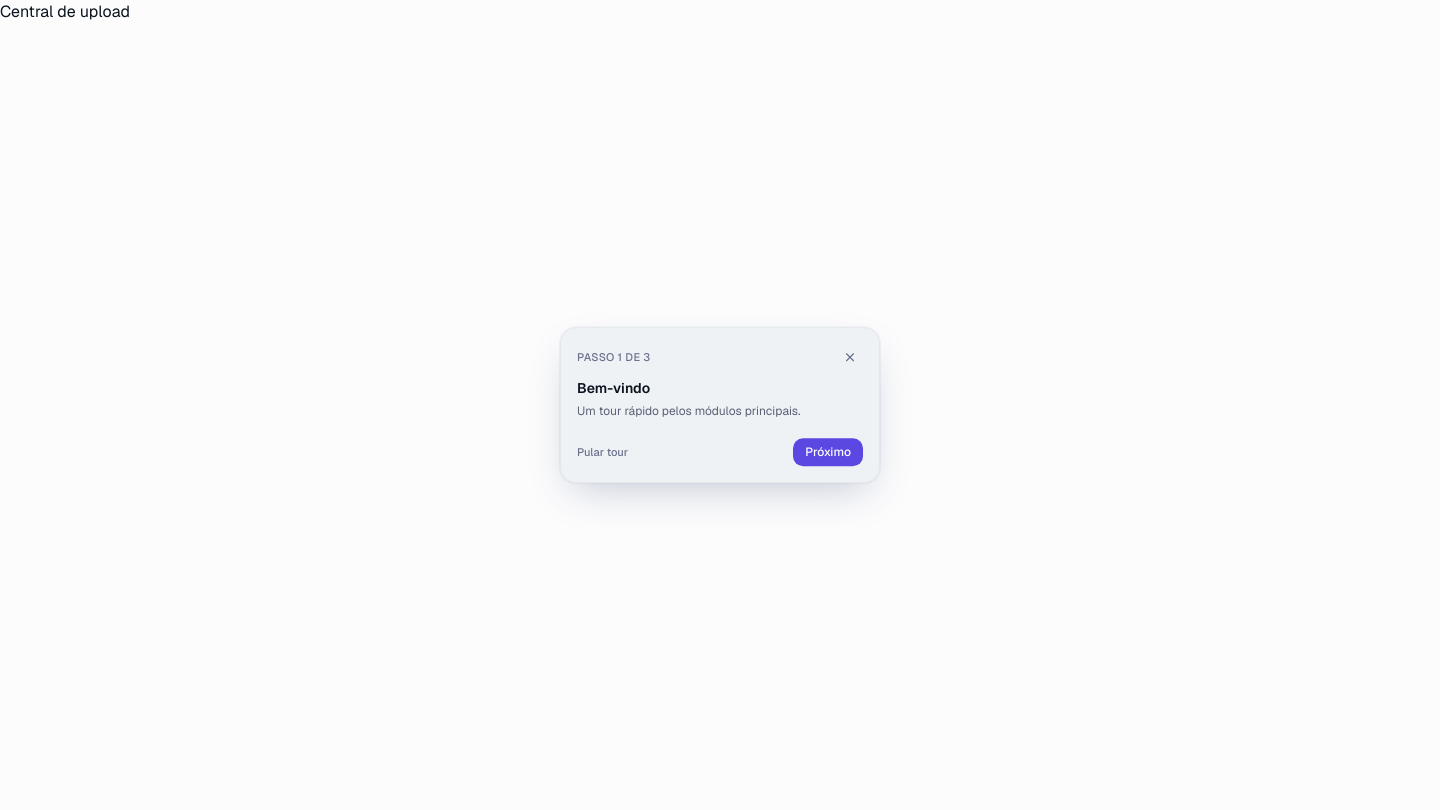
Test: OnboardingTour › 'Próximo' avança o passo, 'Voltar' retorna
Click the button "Próximo" at coordinates (828, 452), box [793, 438, 863, 466]
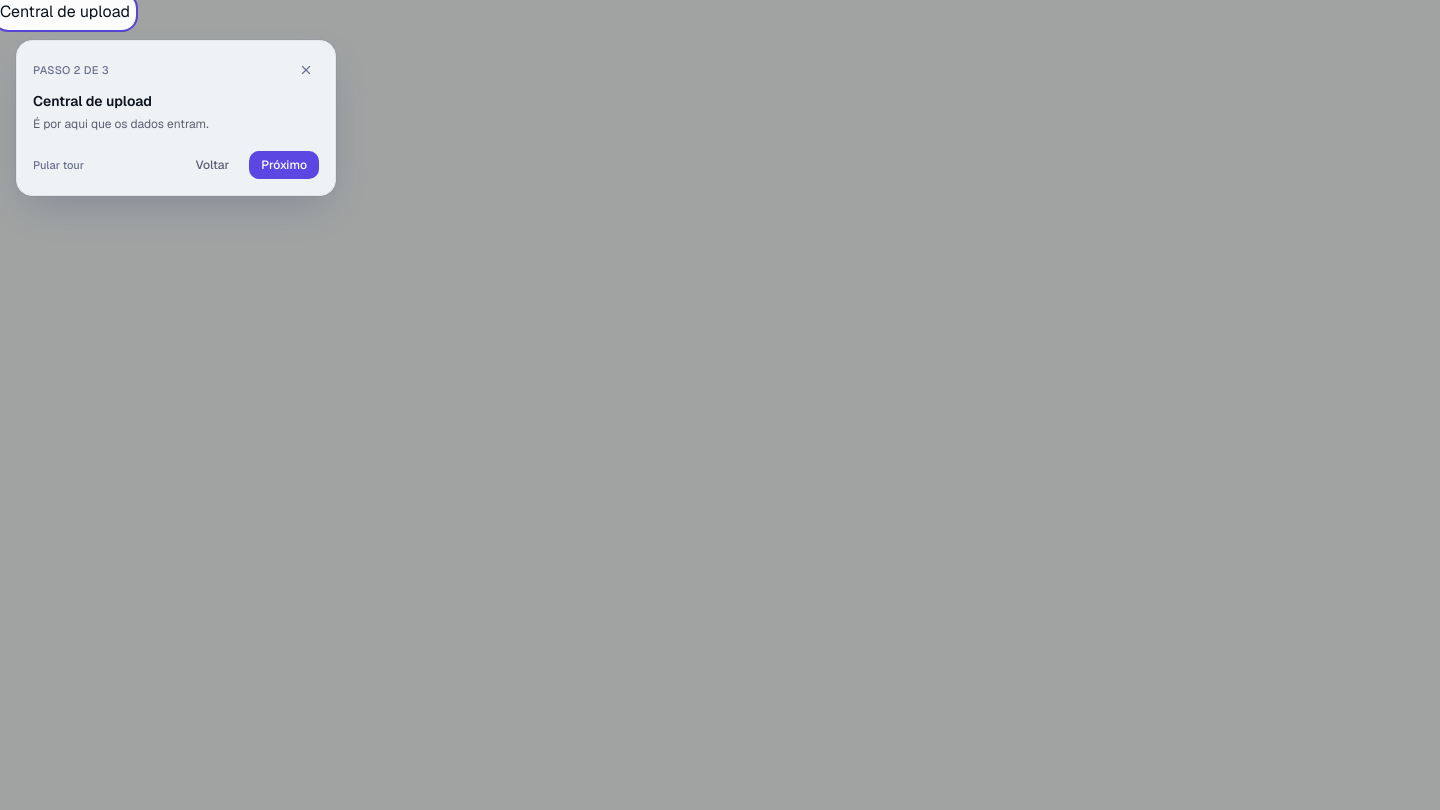
Expected: the heading "Central de upload" is shown, [33, 92, 152, 110]
Click the button "Voltar" at coordinates (212, 164), box [183, 150, 241, 178]
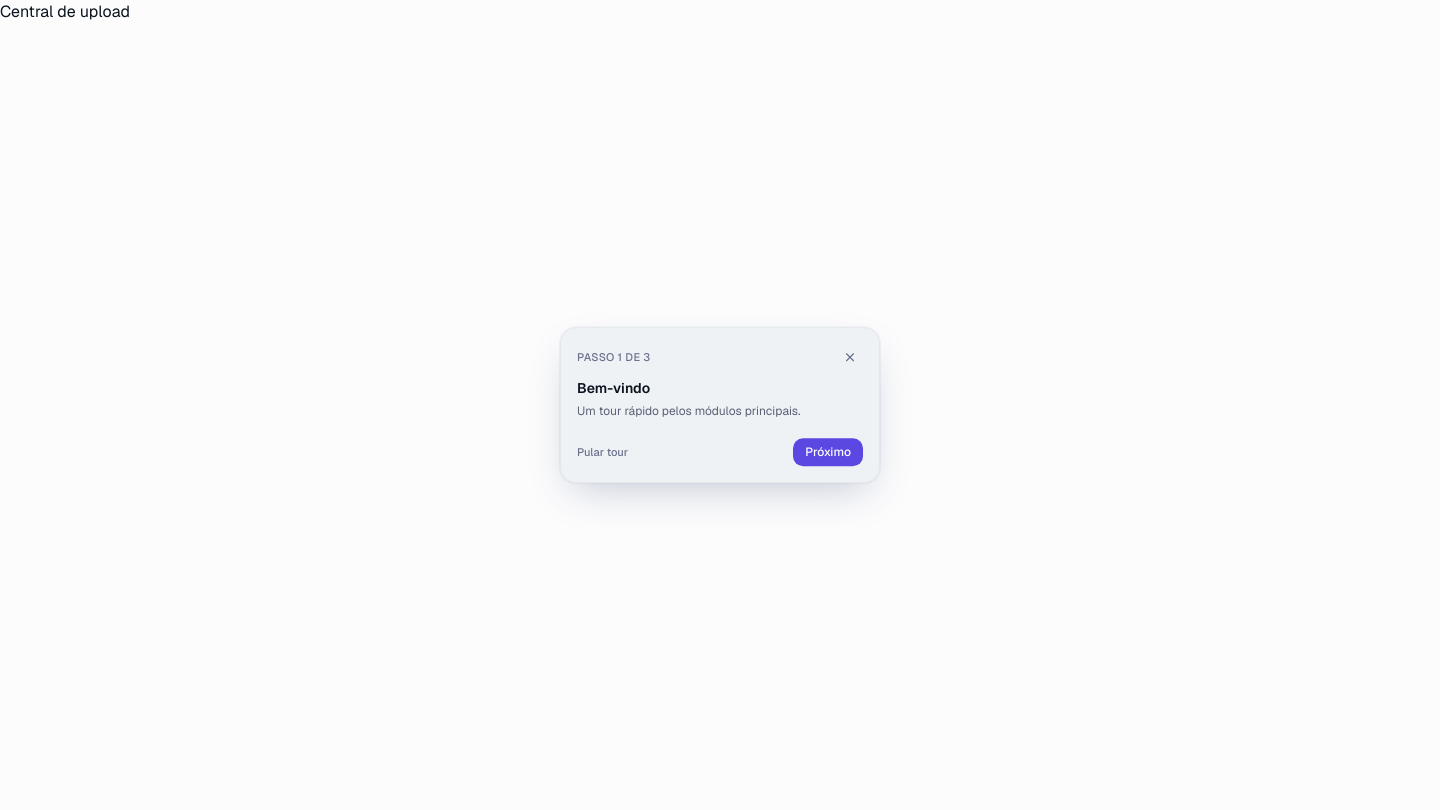
Expected: the heading "Bem-vindo" is shown, [577, 379, 650, 397]
